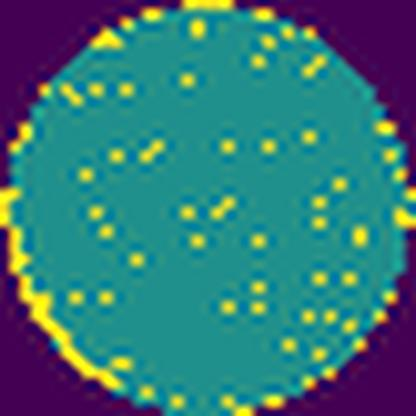Edge-Loc: (0, 189, 125, 395)
